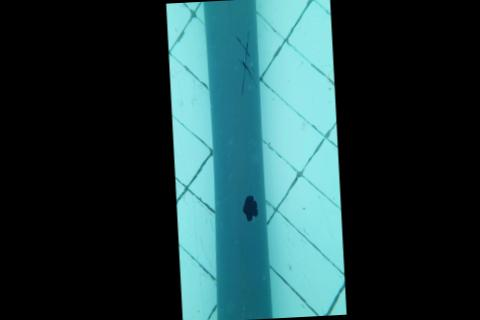kebocoran: (241, 193, 260, 222)
keretakan: (236, 31, 257, 96)
